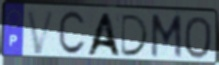A: (84, 12, 123, 58)
C: (57, 10, 88, 57)
D: (119, 13, 151, 58)
M: (149, 13, 184, 61)
O: (182, 15, 213, 61)
V: (25, 9, 58, 56)
